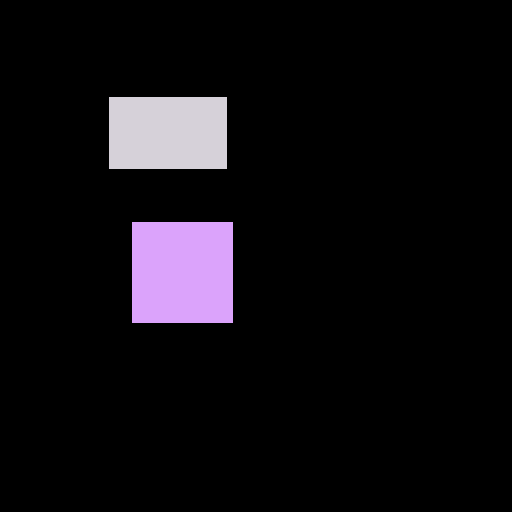rectangle: (109, 97, 226, 168)
square: (132, 222, 232, 322)
